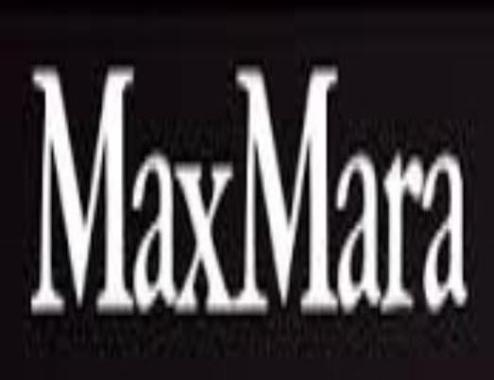MAX-MARA: (30, 70, 470, 315)
